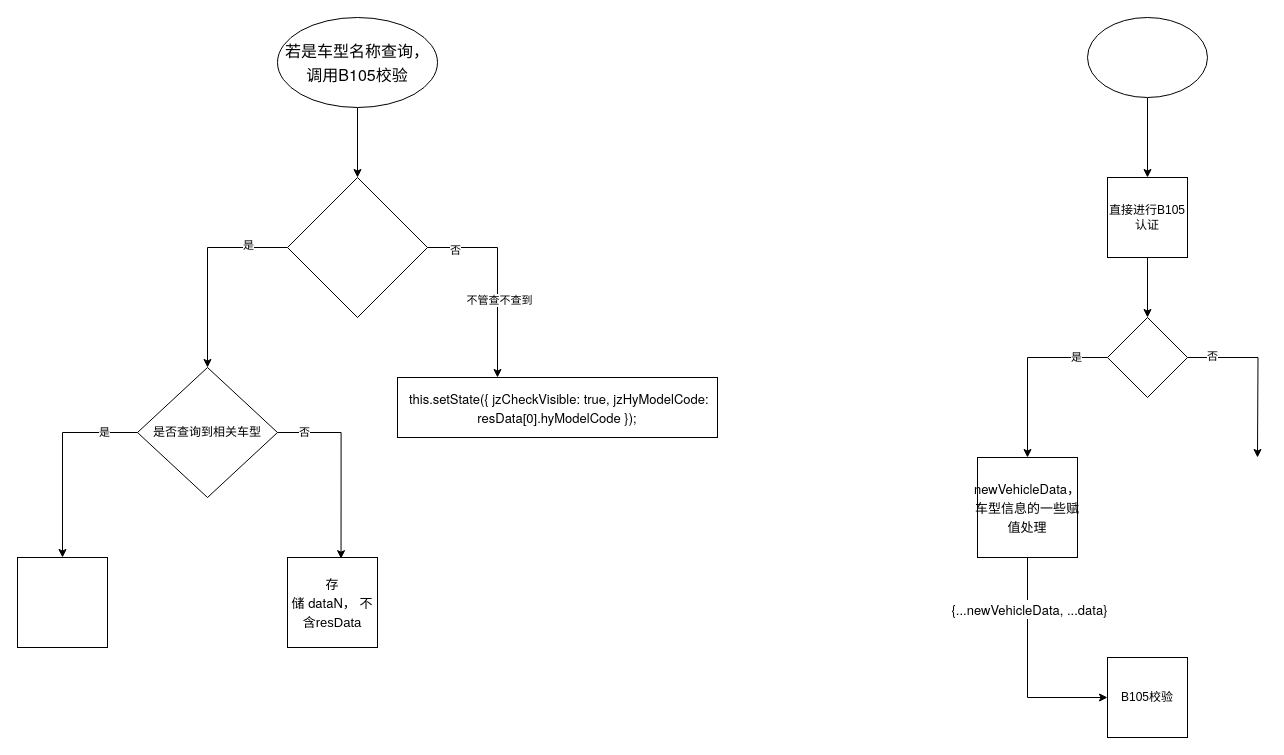
Image size: 1284x755. Some labels were removed from this diagram. Each missing label, with the centre of its shape:
"是否查询到 车型信息" goes at [1147,357].
"精准车型行业代码 与选择车型的车型行业代码是否一致" goes at [357,247].
"若是行业车型编码" goes at [1147,57].
"进行 B105 校验" goes at [62,602].
